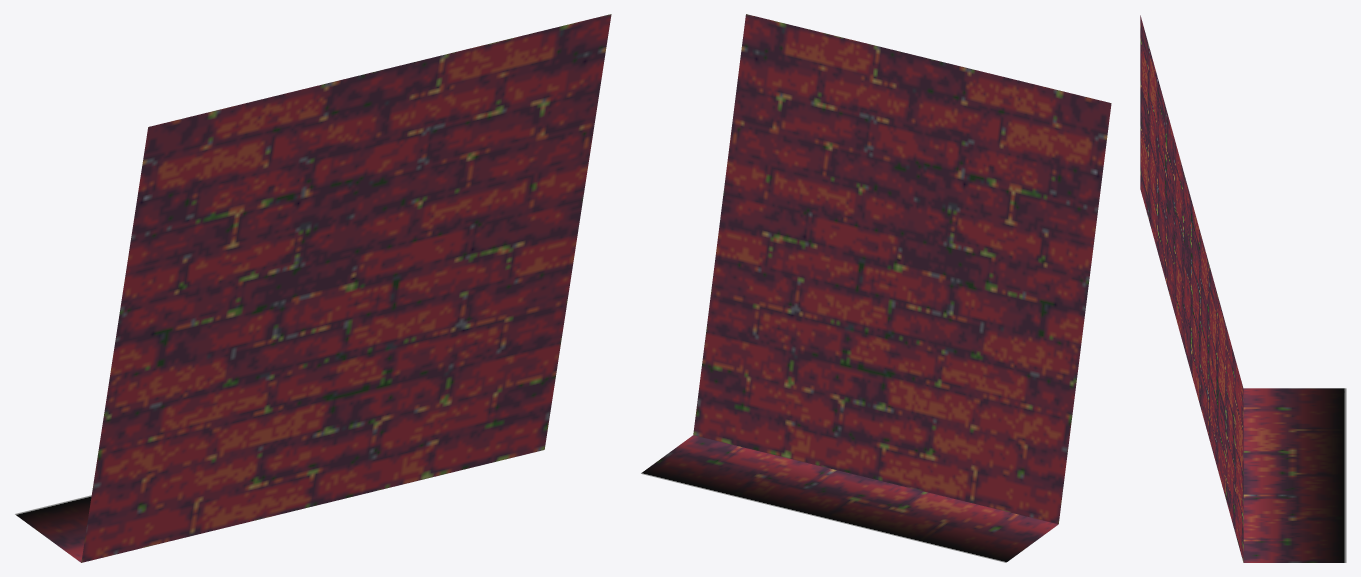
File: Wall Hell 02.fbx
3 views of the same model, side by side, from view 1: azimuth 30°, elevation 25°; view 2: azimuth 150°, elevation 25°; view 3: azimuth 270°, elevation 25° (orthographic). The views are drawn at different scales.
Visible parts, largest first — view 1: plane, plane_selection; view 2: plane, plane_selection; view 3: plane, plane_selection.
Boxes of the visible parts, x1,y1,x2,y2 form: plane: [81, 14, 611, 562]; plane_selection: [15, 495, 91, 562]; plane: [693, 14, 1111, 524]; plane_selection: [641, 435, 1058, 562]; plane: [1140, 15, 1243, 562]; plane_selection: [1243, 388, 1346, 562].
Size of the model in its own units: 100 by 100 by 50.
Materials: 2 (2 with a texture image).
